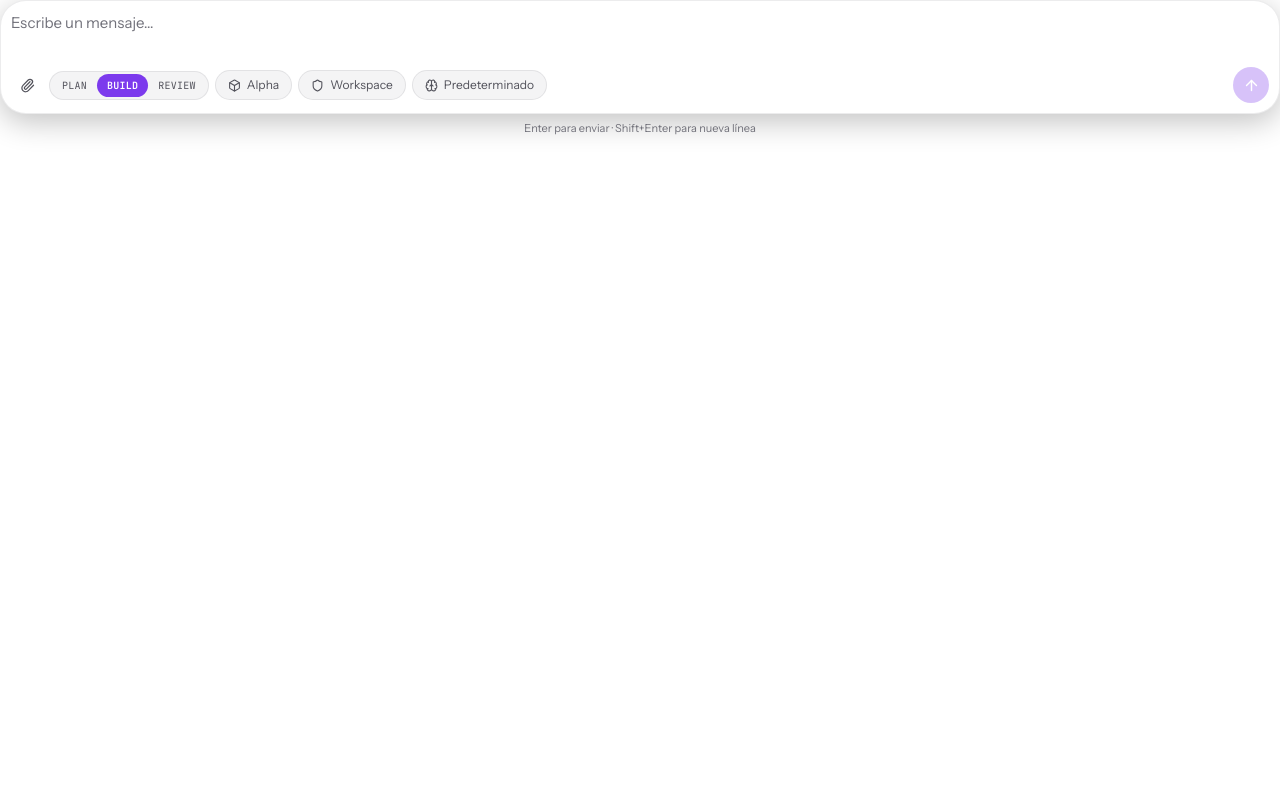
Scenario: groups models by provider and closes each selector immediately on selection
Click the button "Alpha": click(254, 85) left=215, top=70, right=292, bottom=100
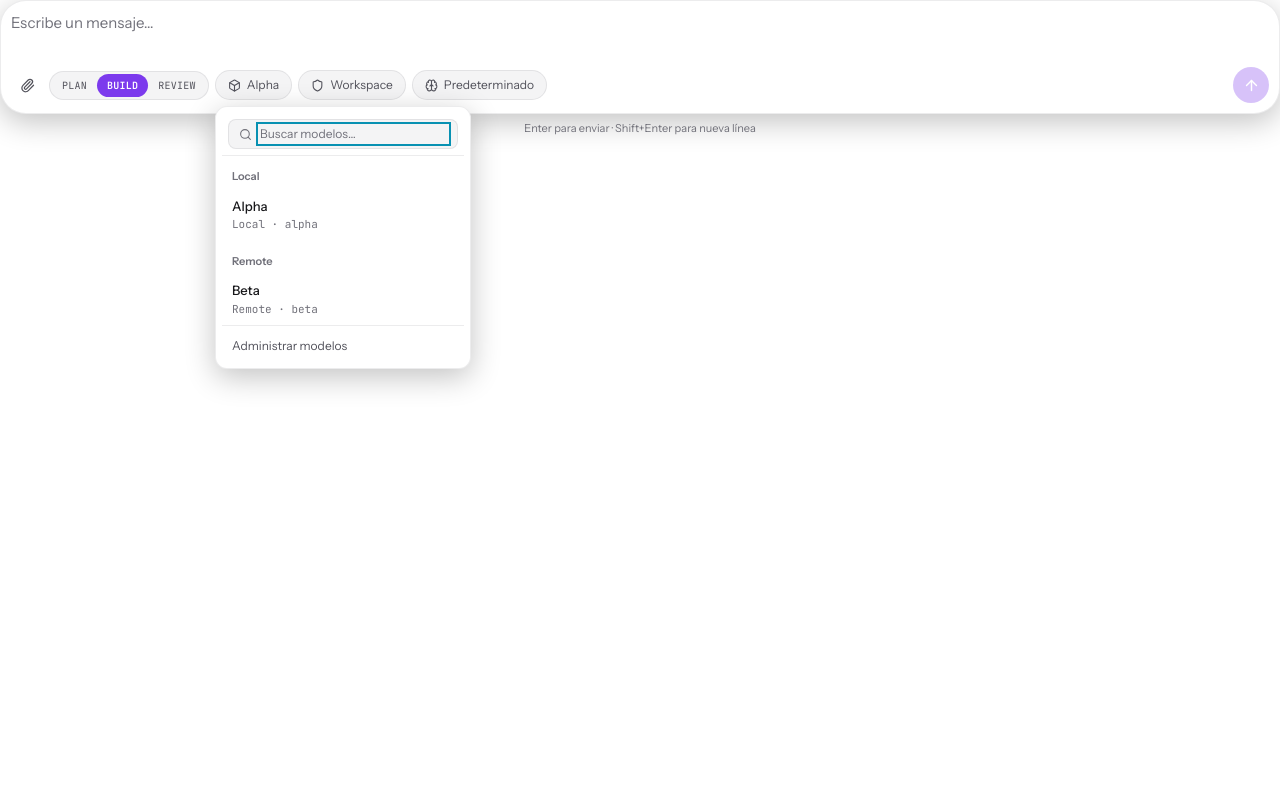
Check: the heading "Local" is shown, box left=232, top=169, right=260, bottom=183
Check: the heading "Remote" is shown, box left=232, top=254, right=273, bottom=268
Click the button "Beta Remote · beta": click(342, 299) left=222, top=273, right=462, bottom=325
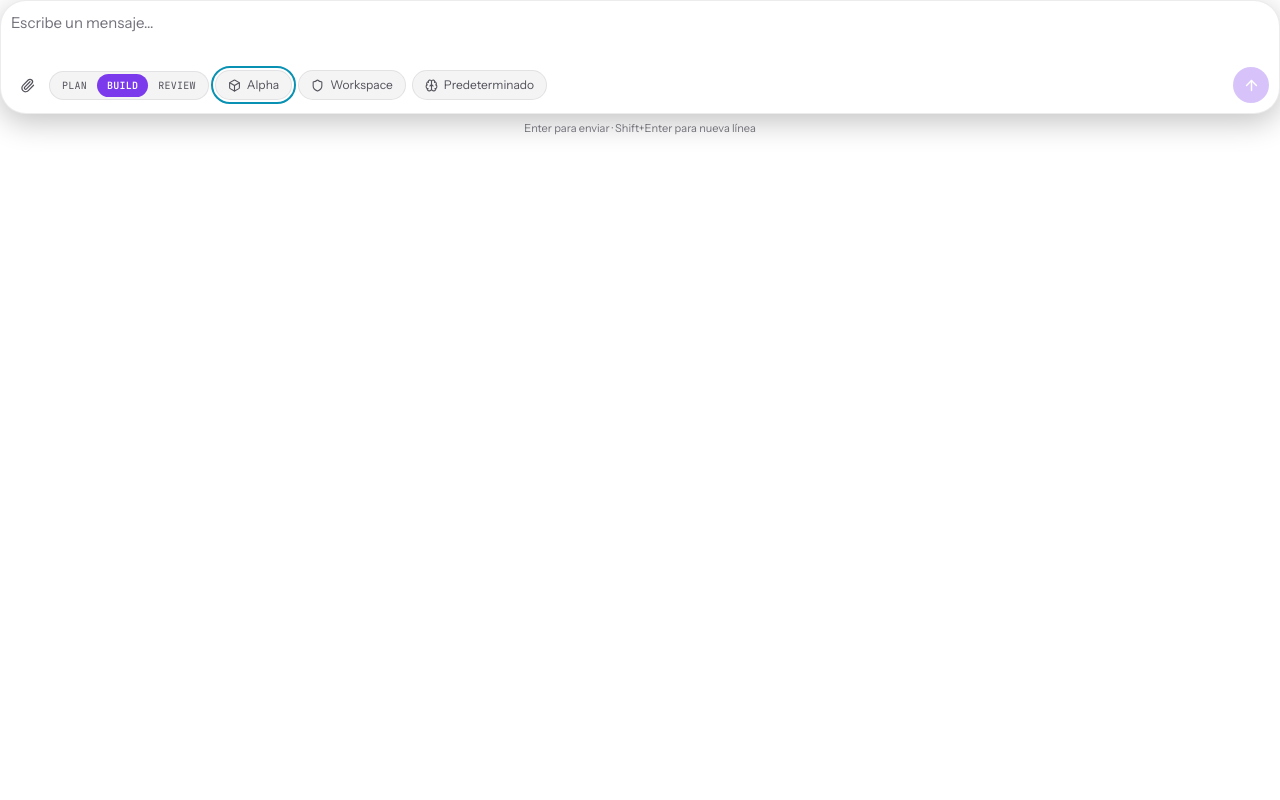
Check: the dialog is gone
Click the button titled "Permisos de este chat": click(352, 85) left=298, top=70, right=406, bottom=100
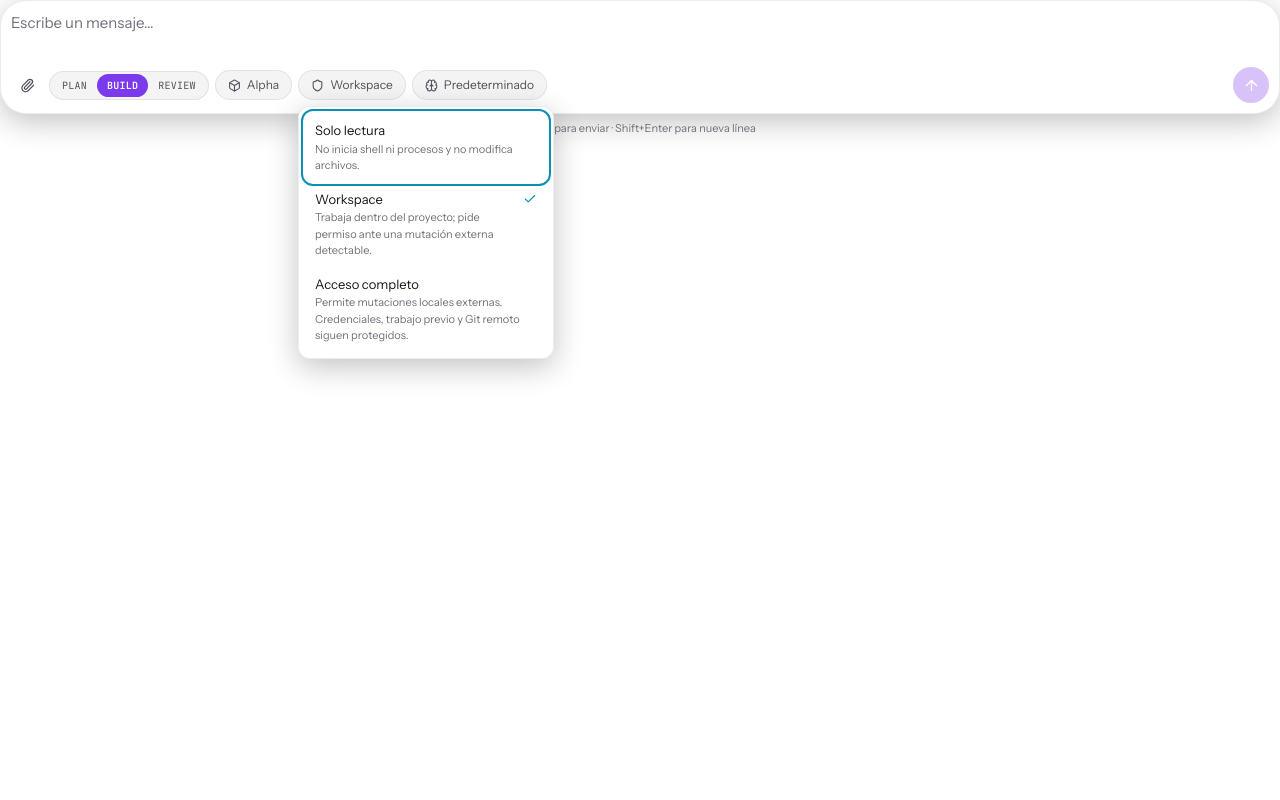
Click the button "Solo lectura": click(426, 147) left=305, top=113, right=547, bottom=182
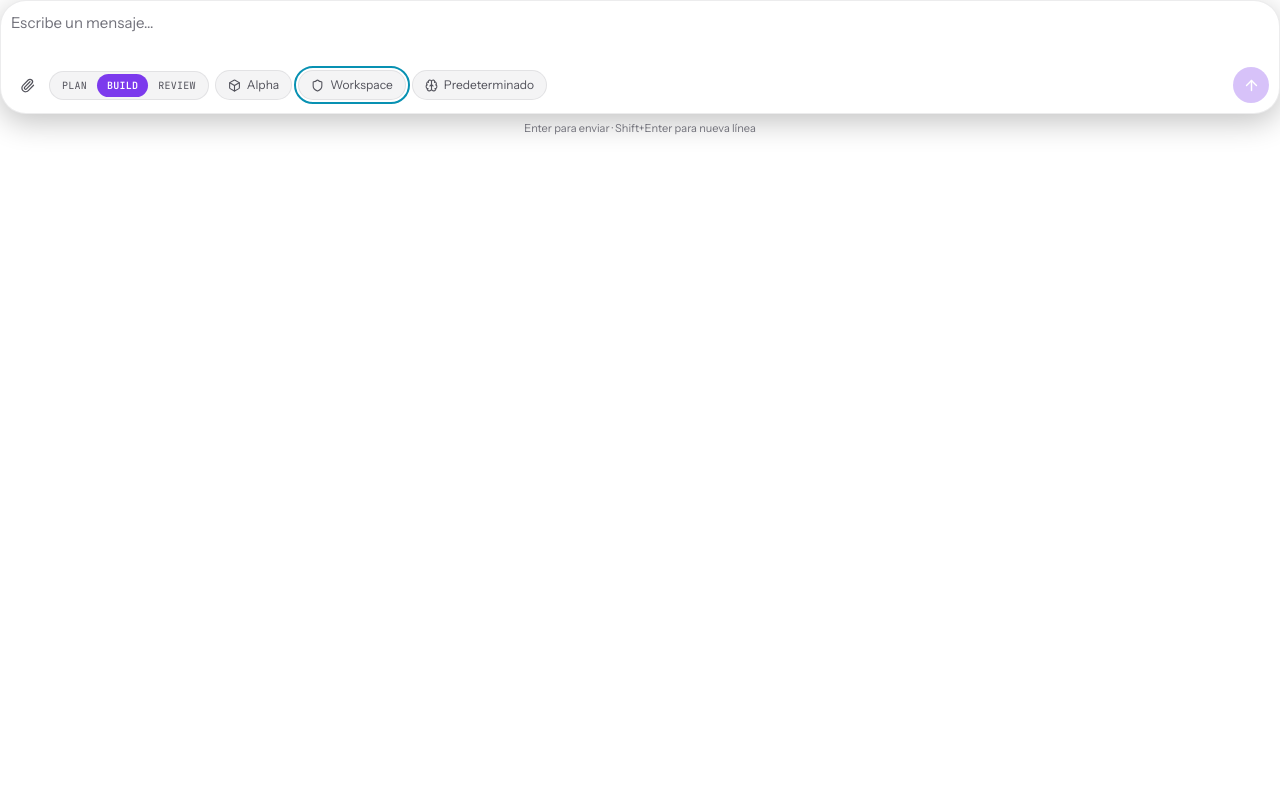
Check: the dialog is gone
Click the button titled "Razonamiento": click(479, 85) left=412, top=70, right=547, bottom=100
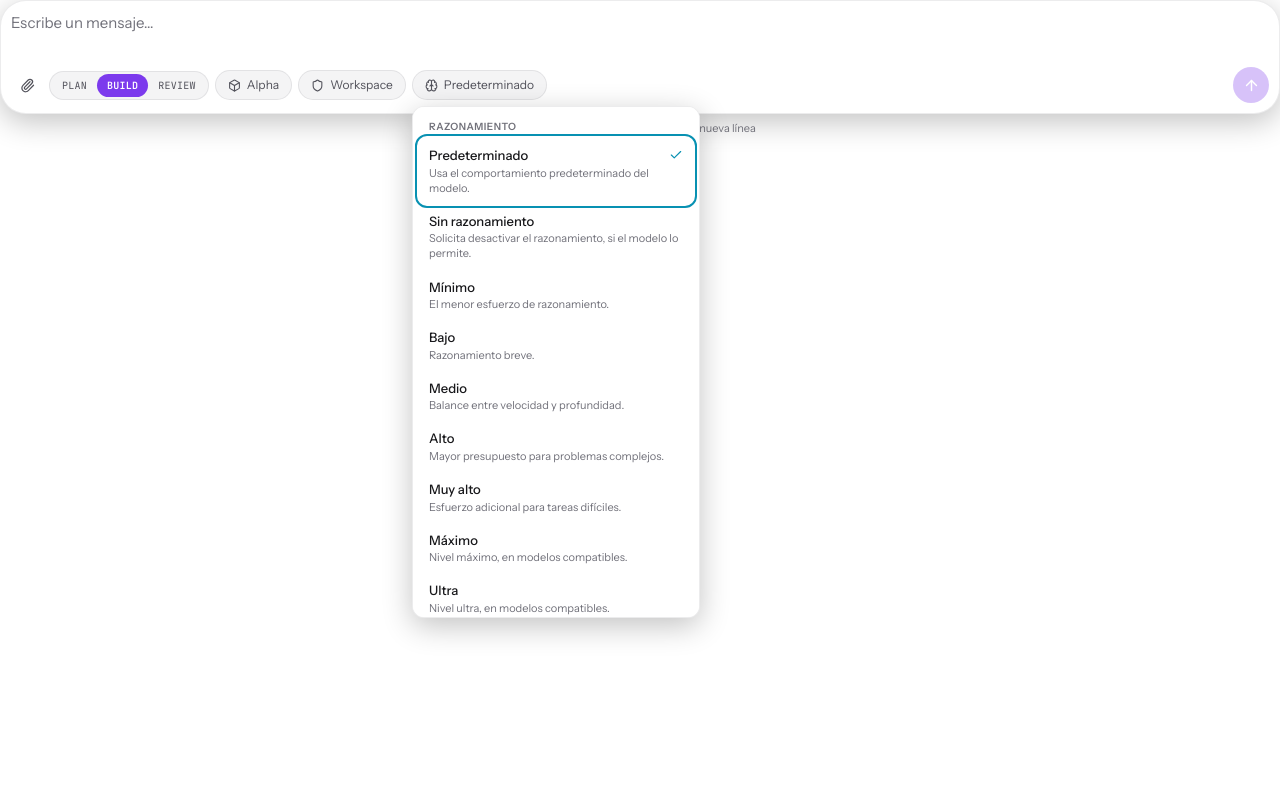
Click the button "Alto Mayor presupuesto para problemas complejos.": click(556, 447) left=419, top=421, right=693, bottom=472
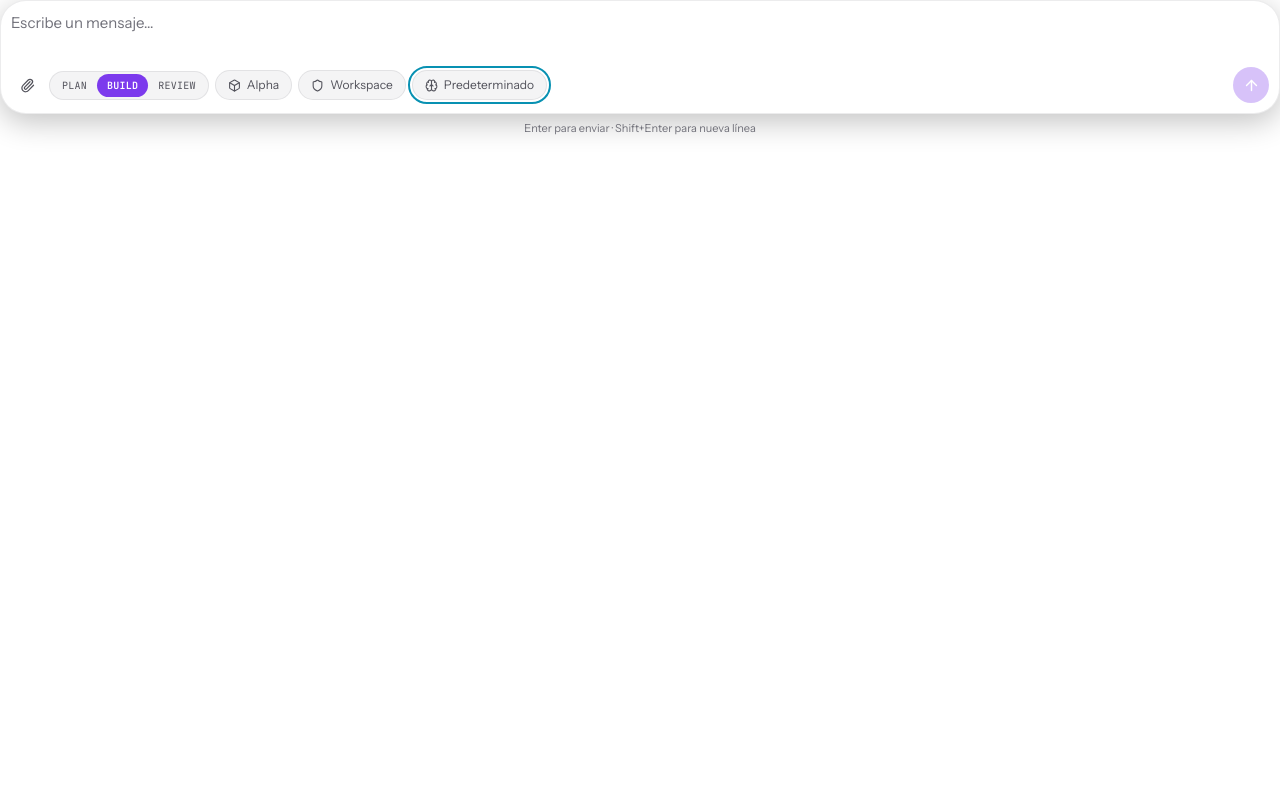
Check: the dialog is gone
